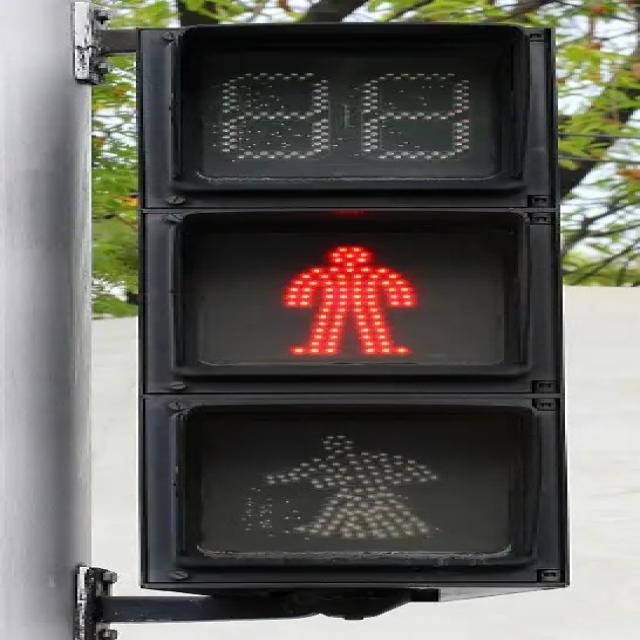Not go: (126, 22, 588, 590), (136, 188, 551, 396)
